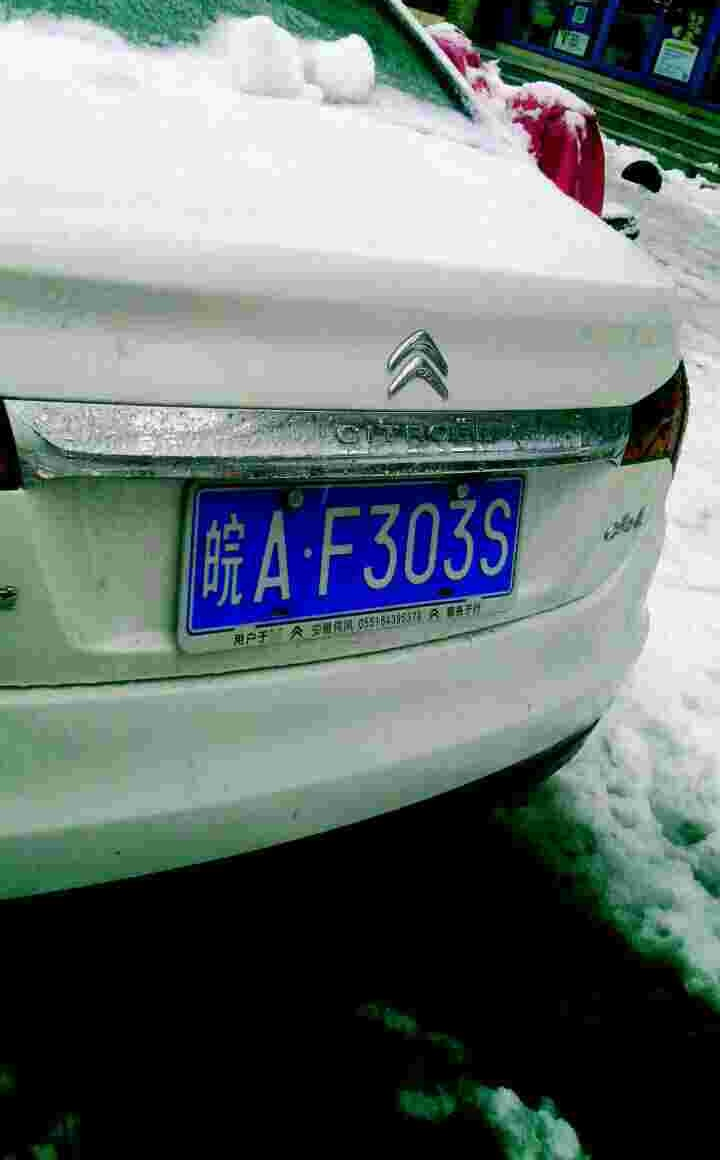plate: (154, 444, 545, 662)
